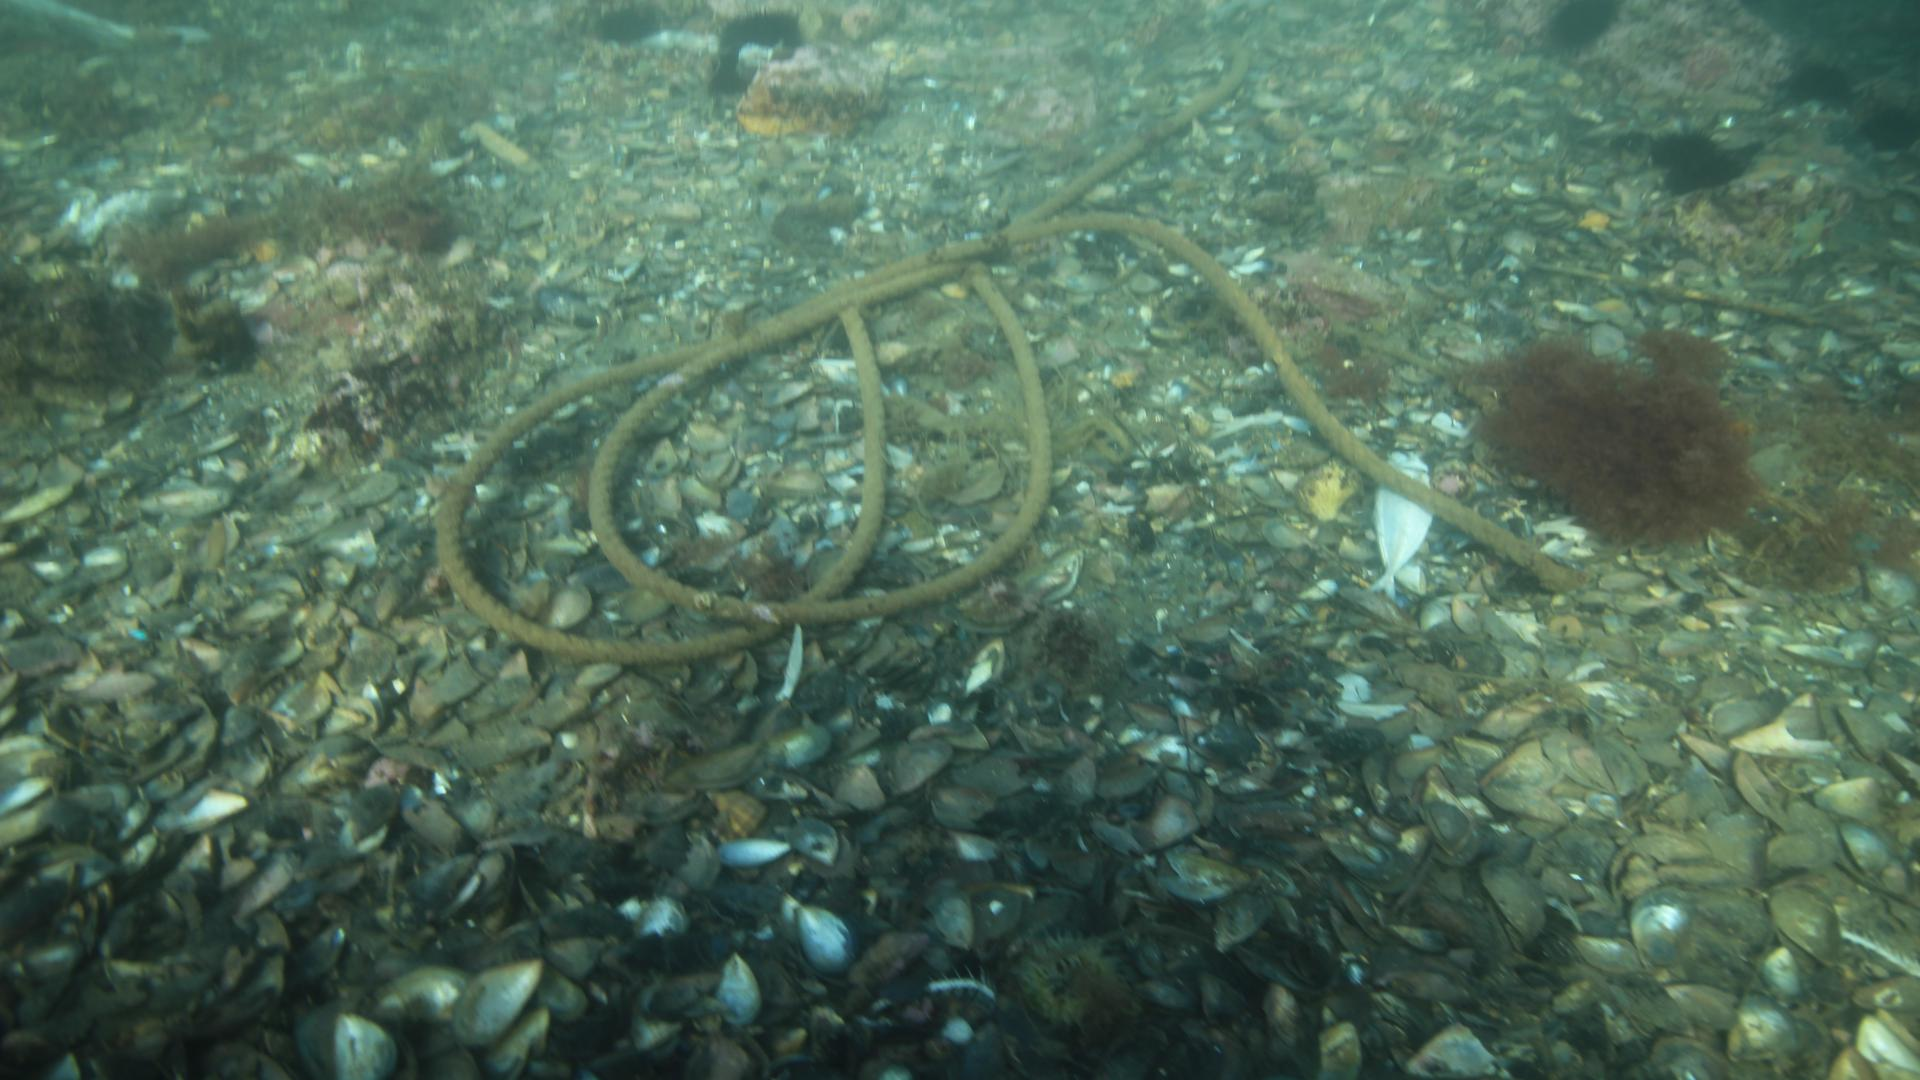bundle of ropes: (430, 38, 1592, 676)
